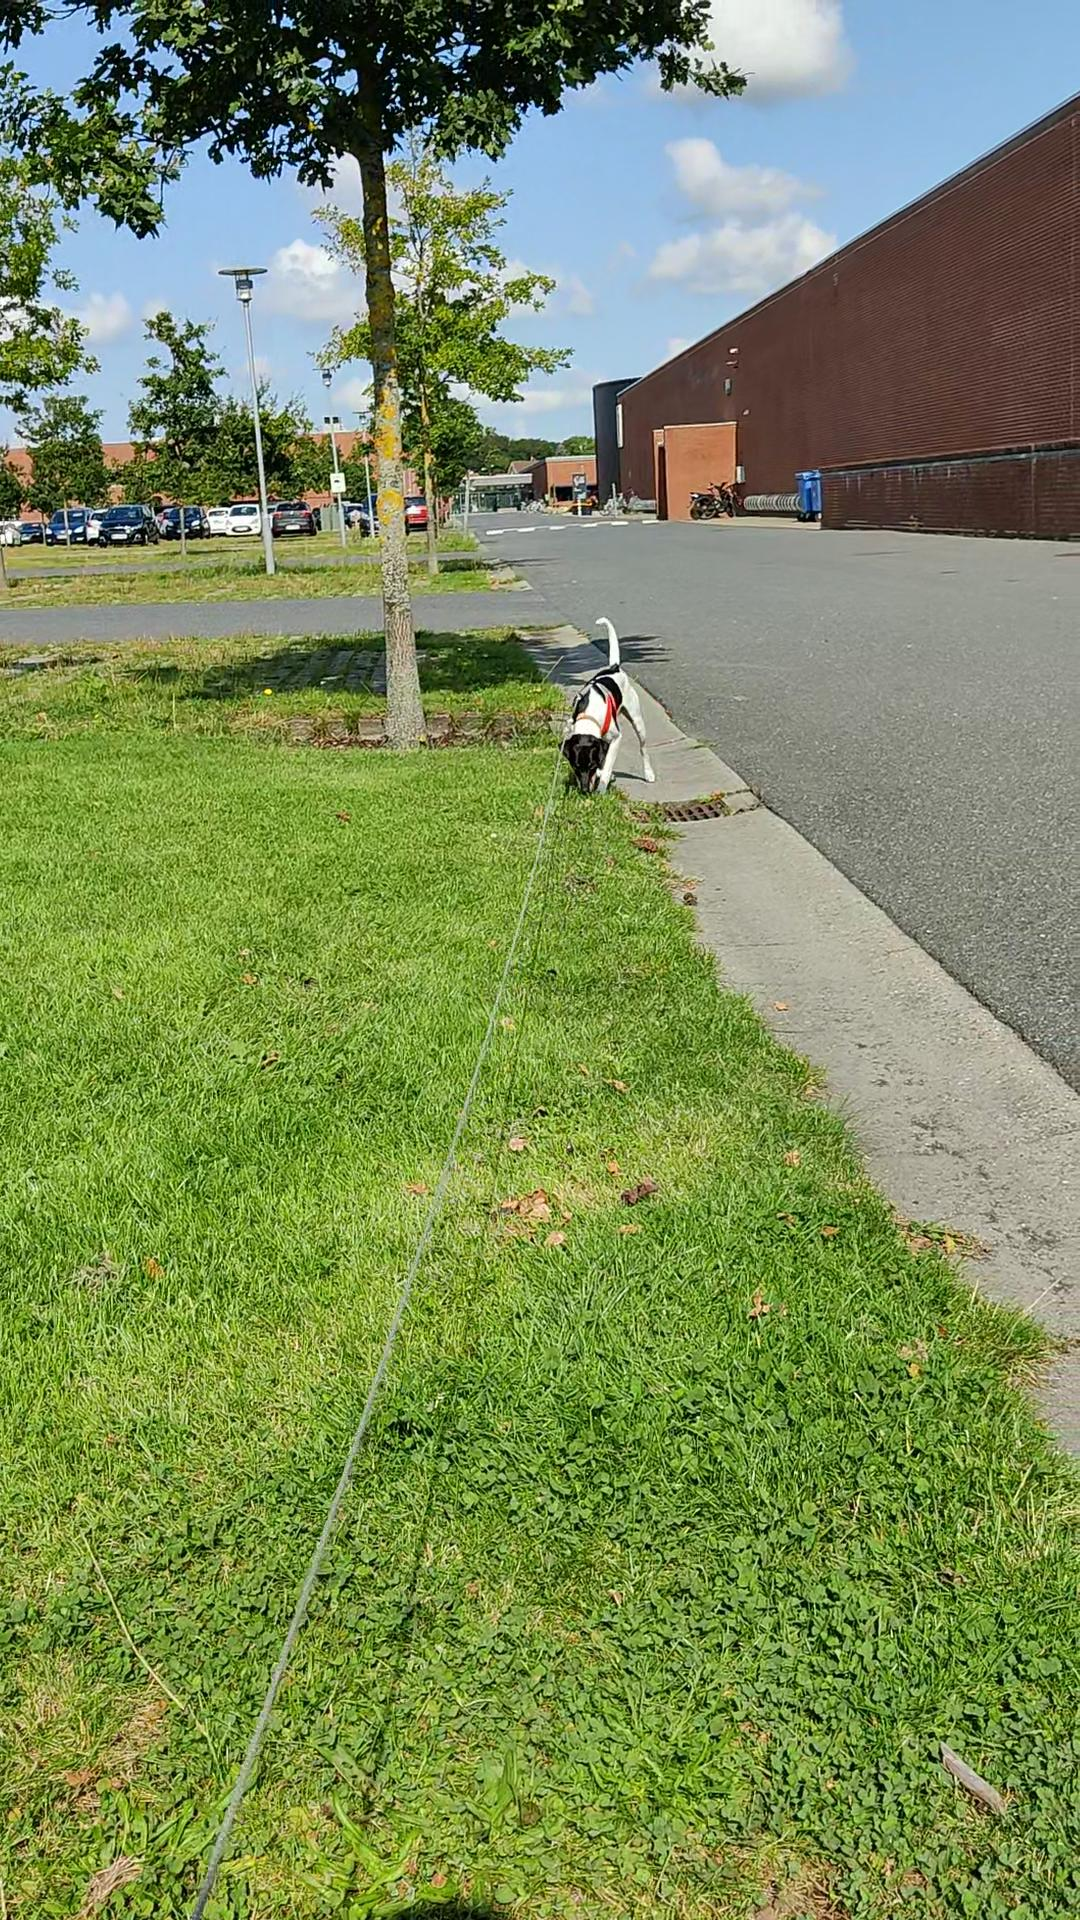Dog: (546, 611, 669, 800)
